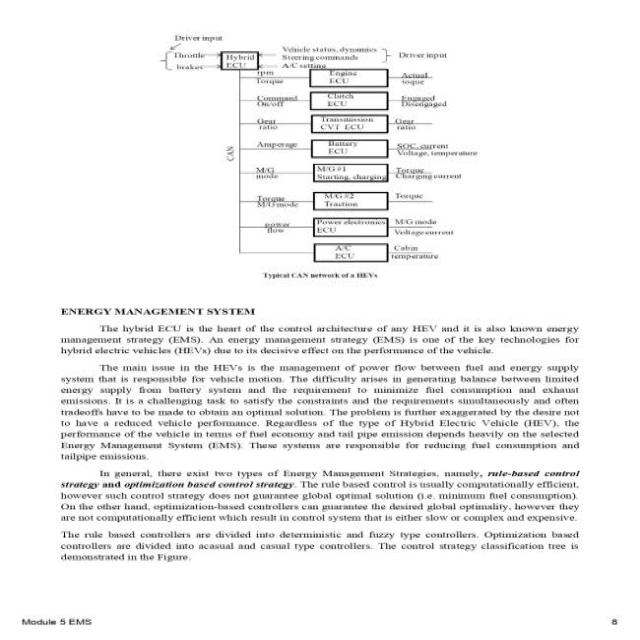Figure Detection - v3 Dataset Version2: (138, 23, 509, 268)
